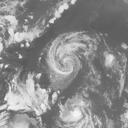cyclone: (46, 32, 85, 78)
